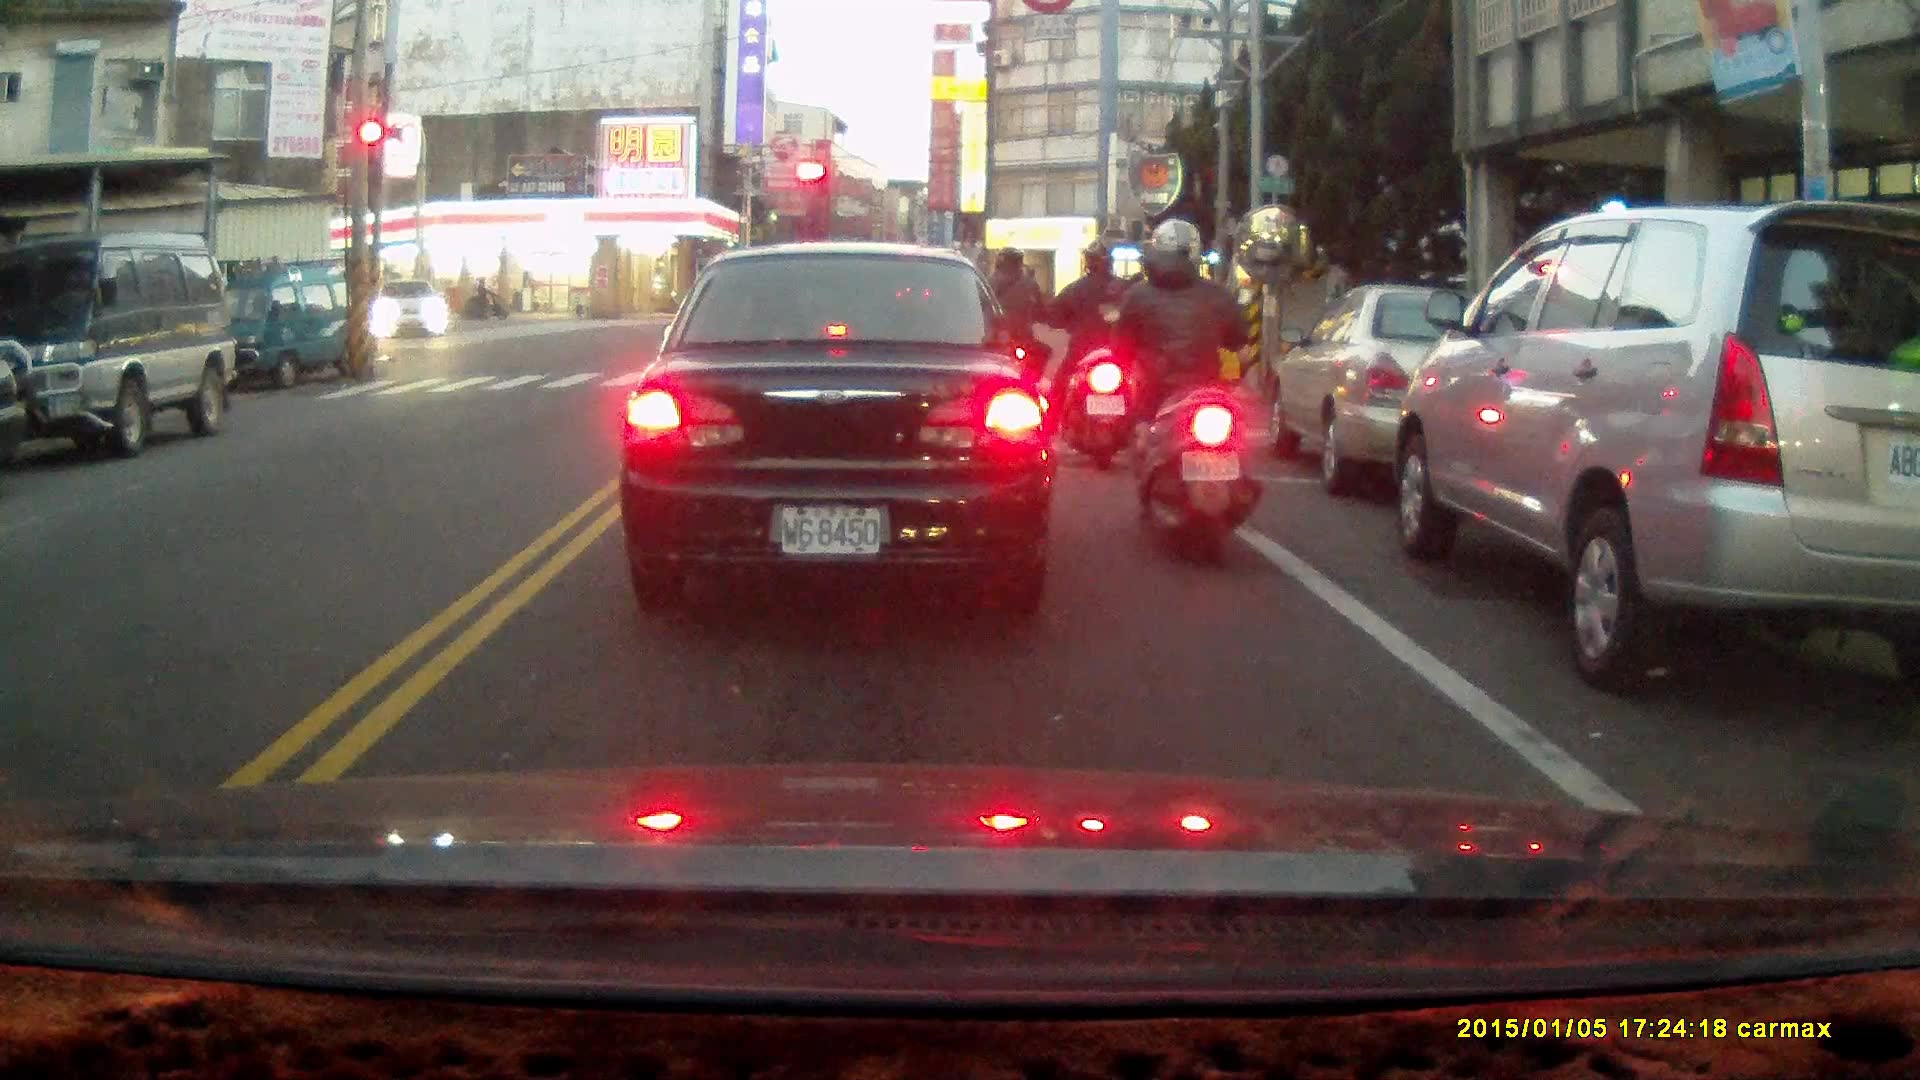rider: (1073, 218, 1265, 573), (1048, 242, 1141, 468), (961, 245, 1053, 431), (449, 277, 492, 316)
vehicle: (1388, 212, 1913, 703), (617, 243, 1061, 606), (1266, 282, 1584, 492), (1, 234, 239, 457), (188, 261, 373, 393), (372, 277, 451, 343)
